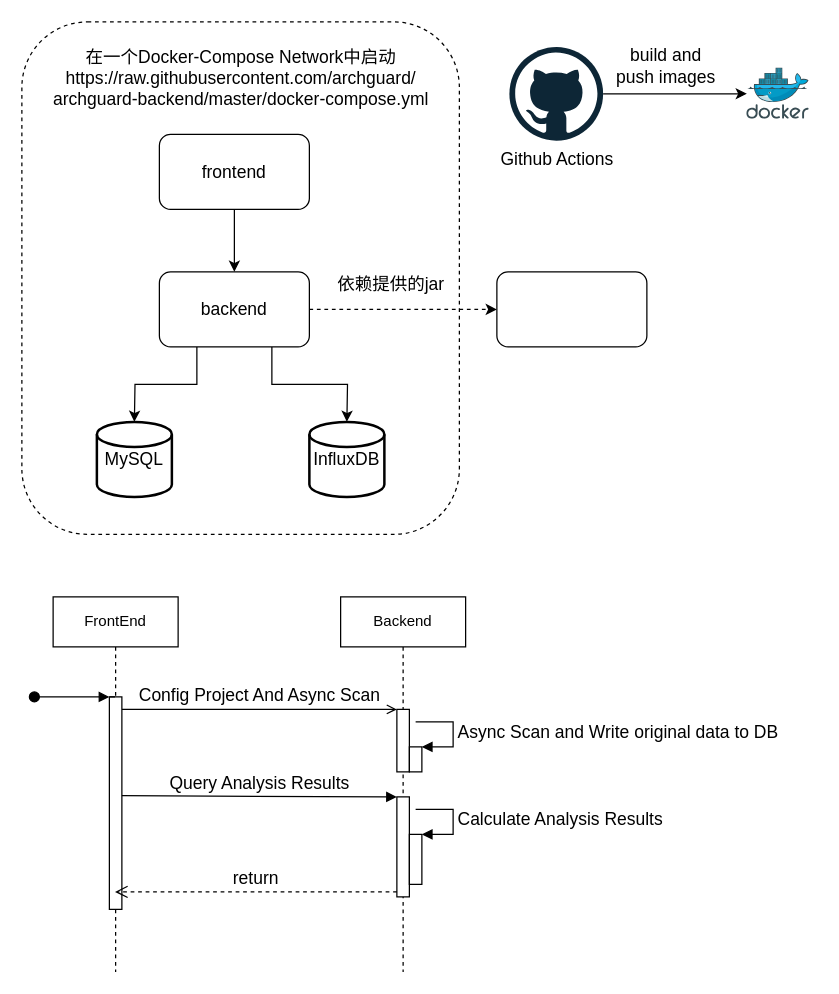
The diagram is 839 pixels wide and 994 high, and some of its shapes have lost their labels. The box of each missing label's shape, as (x1, y1, x2, y2) in pixels:
archguard: (746, 68, 809, 119)
scanner: (496, 271, 647, 347)
